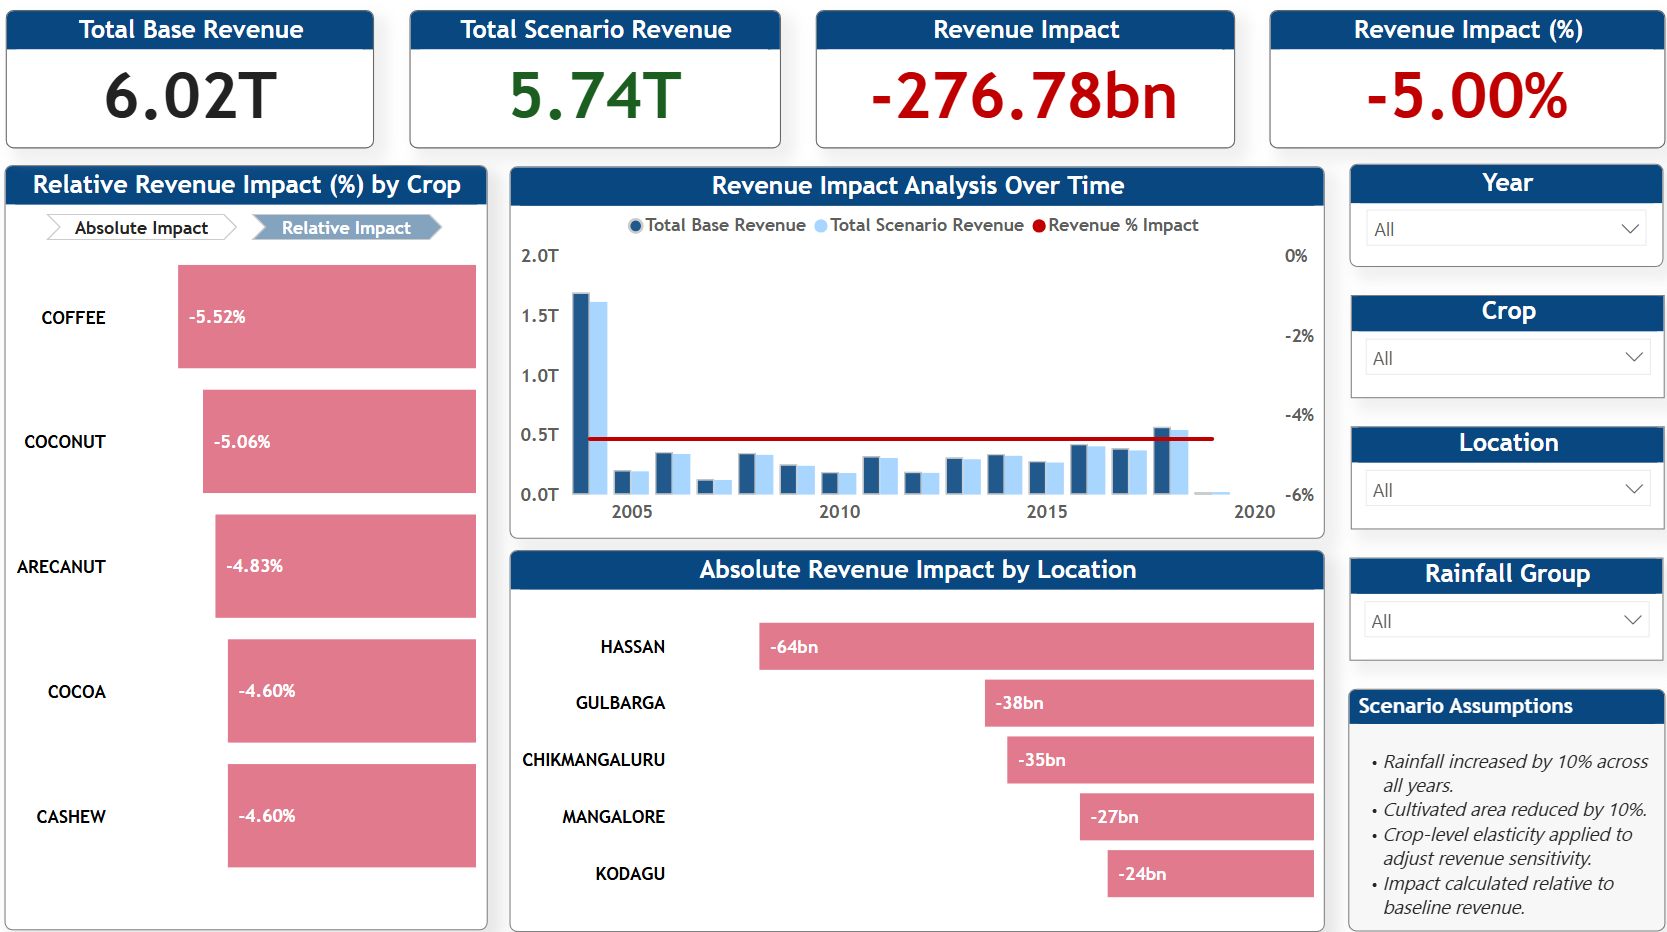

What the dashboard file says about the page in this screenshot:
{"tool":"powerbi","page":{"name":"Agricultural Revenue Scenario Impact Dashboard","canvas":[1280,720],"ordinal":0},"visuals":[{"type":"clusteredBarChart","title":"Absolute Revenue Impact by Crop","fields":{"Category":["AGRICULTURE_ANALYTICS.CROPS"],"Y":["Measures Table.Crop Revenue Impact"]},"box":[13.3,132.1,361.7,575.3],"z":0},{"type":"bookmarkNavigator","box":[44.4,168.2,299.4,20.1],"z":2000},{"type":"cardVisual","title":"Revenue Impact","fields":{"Data":["Sum(AGRICULTURE_SCENARIO_SUMMARY.TOTAL_REVENUE_DIFF)"]},"box":[622.5,14.7,315,104.1],"z":3000},{"type":"cardVisual","title":"Revenue Impact (%)","fields":{"Data":["Sum(AGRICULTURE_SCENARIO_SUMMARY.DIFF_PERCENTAGE)"]},"box":[963.9,14.7,297.7,104.1],"z":4000},{"type":"cardVisual","title":"Total Base Revenue","fields":{"Data":["Sum(AGRICULTURE_SCENARIO_SUMMARY.TOTAL_BASE_REVENUE)"]},"box":[13.8,14.7,277.1,104.1],"z":5000},{"type":"cardVisual","title":"Total Scenario Revenue","fields":{"Data":["Sum(AGRICULTURE_SCENARIO_SUMMARY.TOTAL_SCENARIO_REVENUE)"]},"box":[317.2,14.7,279,104.1],"z":6000},{"type":"lineClusteredColumnComboChart","title":"Revenue Impact Analysis Over Time","fields":{"Y":["Sum(AGRICULTURE_ANALYTICS.BASE_REVENUE)","Sum(AGRICULTURE_ANALYTICS.SCENARIO_REVENUE)"],"Category":["AGRICULTURE_ANALYTICS.YEAR"],"Y2":["Measures Table.Revenue % Impact"]},"box":[393.1,132.1,612.6,280.3],"z":7000},{"type":"clusteredBarChart","title":"Absolute Revenue Impact by Location","fields":{"Category":["AGRICULTURE_ANALYTICS.LOCATION"],"Y":["Measures Table.Location Revenue Impact"]},"box":[393.1,420.4,612.6,287],"z":8000},{"type":"slicer","title":"Year","fields":{"Values":["AGRICULTURE_ANALYTICS.YEAR"]},"box":[1023.7,130.8,236.2,77.4],"z":9000},{"type":"slicer","title":"Crop","fields":{"Values":["AGRICULTURE_ANALYTICS.CROPS"]},"box":[1025.1,229.4,236.2,77.4],"z":10000},{"type":"slicer","title":"Location","fields":{"Values":["AGRICULTURE_ANALYTICS.LOCATION"]},"box":[1025.1,328,236.2,77.4],"z":11000},{"type":"slicer","title":"Rainfall Group","fields":{"Values":["AGRICULTURE_ANALYTICS.RAINFALL_GROUP"]},"box":[1023.7,426.6,236.2,77.4],"z":12000},{"type":"textbox","title":"Scenario Assumptions","box":[1023.3,525.2,238.1,182.1],"z":13000}]}

Visuals, with their boxes in screenshot pixels (x1, y1, x2, y2), scaled from the page's 1280x720 canvas onto the 1667x932 screenshot:
"Absolute Revenue Impact by Crop" clusteredBarChart: (left=17, top=171, right=488, bottom=916)
bookmarkNavigator: (left=58, top=218, right=448, bottom=244)
"Revenue Impact" cardVisual: (left=811, top=19, right=1221, bottom=154)
"Revenue Impact (%)" cardVisual: (left=1255, top=19, right=1643, bottom=154)
"Total Base Revenue" cardVisual: (left=18, top=19, right=379, bottom=154)
"Total Scenario Revenue" cardVisual: (left=413, top=19, right=776, bottom=154)
"Revenue Impact Analysis Over Time" lineClusteredColumnComboChart: (left=512, top=171, right=1310, bottom=534)
"Absolute Revenue Impact by Location" clusteredBarChart: (left=512, top=544, right=1310, bottom=916)
"Year" slicer: (left=1333, top=169, right=1641, bottom=270)
"Crop" slicer: (left=1335, top=297, right=1643, bottom=397)
"Location" slicer: (left=1335, top=425, right=1643, bottom=525)
"Rainfall Group" slicer: (left=1333, top=552, right=1641, bottom=652)
"Scenario Assumptions" textbox: (left=1333, top=680, right=1643, bottom=916)
